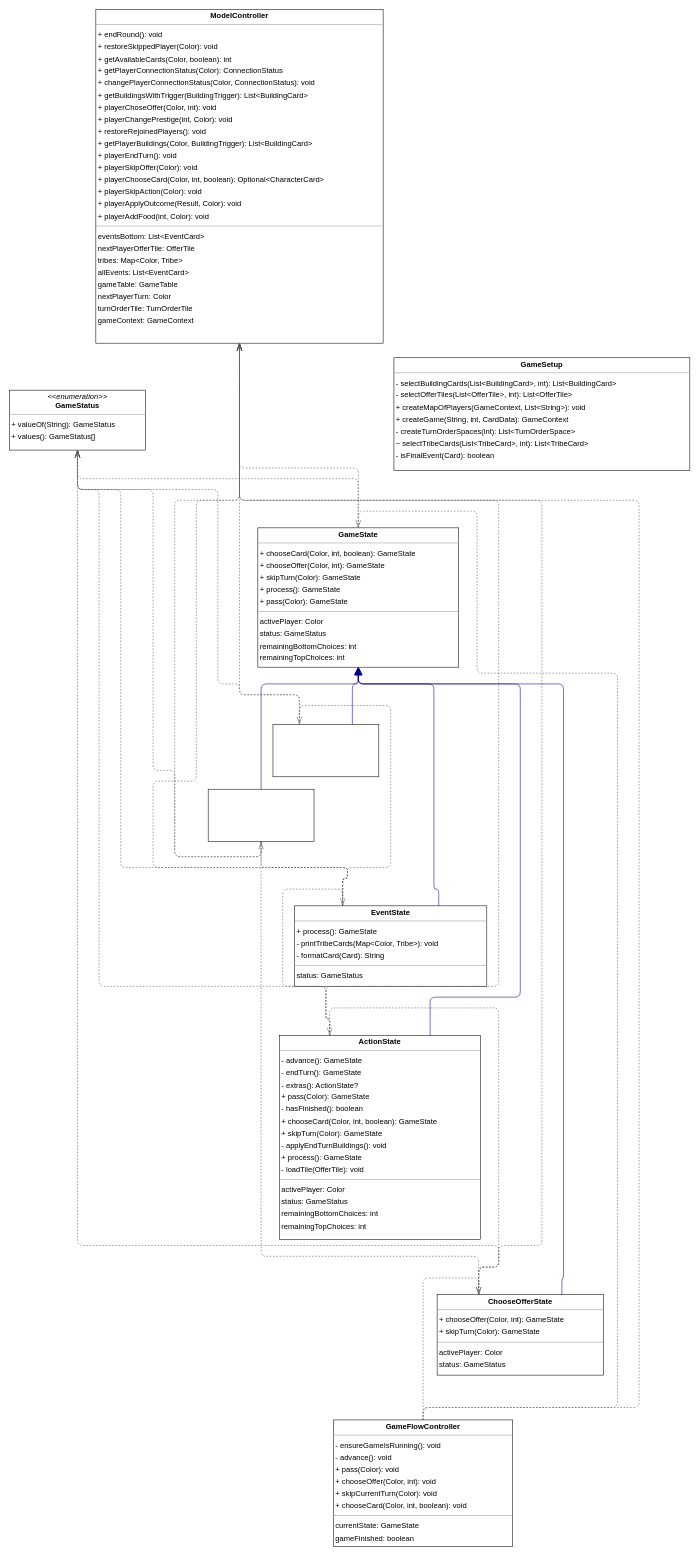
This 699x1556 diagram has some shape labels left out. The box of each missing label's shape, as (x1, y1, x2, y2) in pixels:
EndGameState + process(): GameState status: GameStatus: (272, 724, 379, 777)
EndRoundState + process(): GameState status: GameStatus: (208, 789, 314, 842)
